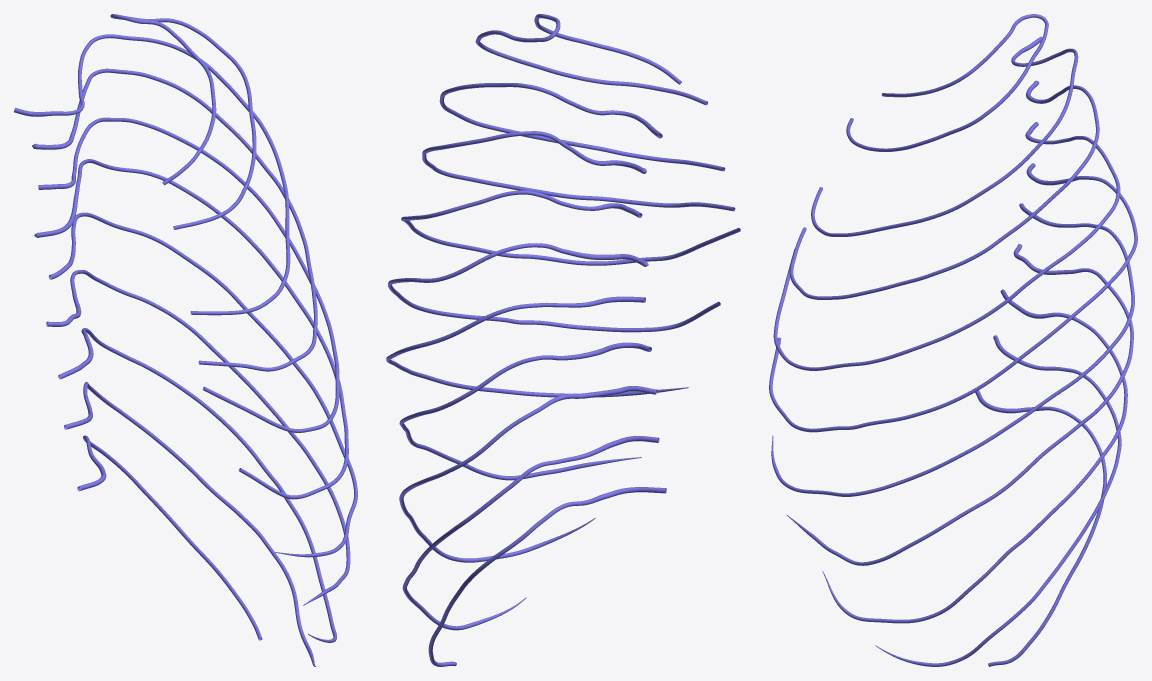
Rendered from Left_superior_intercostal_veins.l_BezierCurve.308.glb.
3 renders of one model, left to right at view 1: azimuth 30°, elevation 25°; view 2: azimuth 150°, elevation 25°; view 3: azimuth 270°, elevation 25°, orthographic. The views are drawn at different scales.
Parts seen in each view (by area): view 1: Left_superior_intercostal_veins.l_BezierCurve.308; view 2: Left_superior_intercostal_veins.l_BezierCurve.308; view 3: Left_superior_intercostal_veins.l_BezierCurve.308.
Boxes of the visible parts, <box> form: Left_superior_intercostal_veins.l_BezierCurve.308: <box>14,14,357,666</box>; Left_superior_intercostal_veins.l_BezierCurve.308: <box>386,14,740,666</box>; Left_superior_intercostal_veins.l_BezierCurve.308: <box>769,14,1137,666</box>.
Size of the model in its own units: 0.1543 by 0.3565 by 0.1992.
